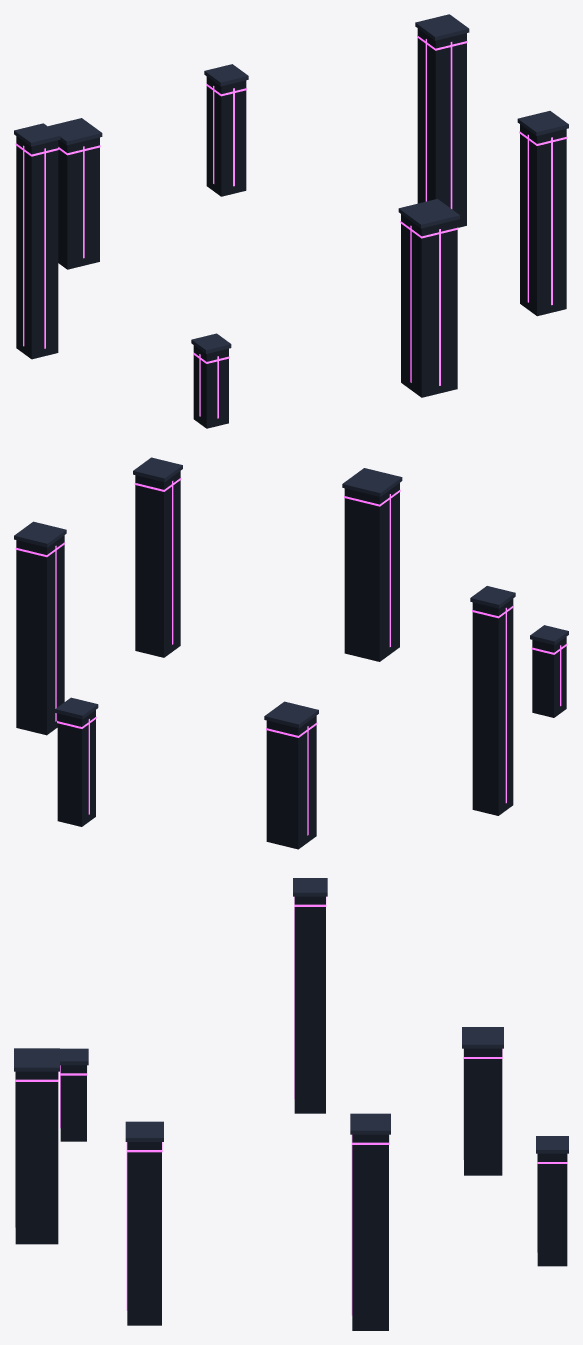
The picture shows the model from 3 angles, top to bottom: view 1: azimuth 30°, elevation 25°; view 2: azimuth 150°, elevation 25°; view 3: azimuth 270°, elevation 25°; orthographic projection. The views are drawn at different scales.
Visible parts, largest first — view 1: nexo_spires_pixel.lod1; view 2: nexo_spires_pixel.lod1; view 3: nexo_spires_pixel.lod1.
Part boxes in pixels (box(x1,y1,x2,y2)): nexo_spires_pixel.lod1: box(14, 14, 568, 428); nexo_spires_pixel.lod1: box(14, 457, 568, 849); nexo_spires_pixel.lod1: box(14, 878, 568, 1330).
Bounding box in the file's own units: 25.19 × 11.22 × 25.46.
